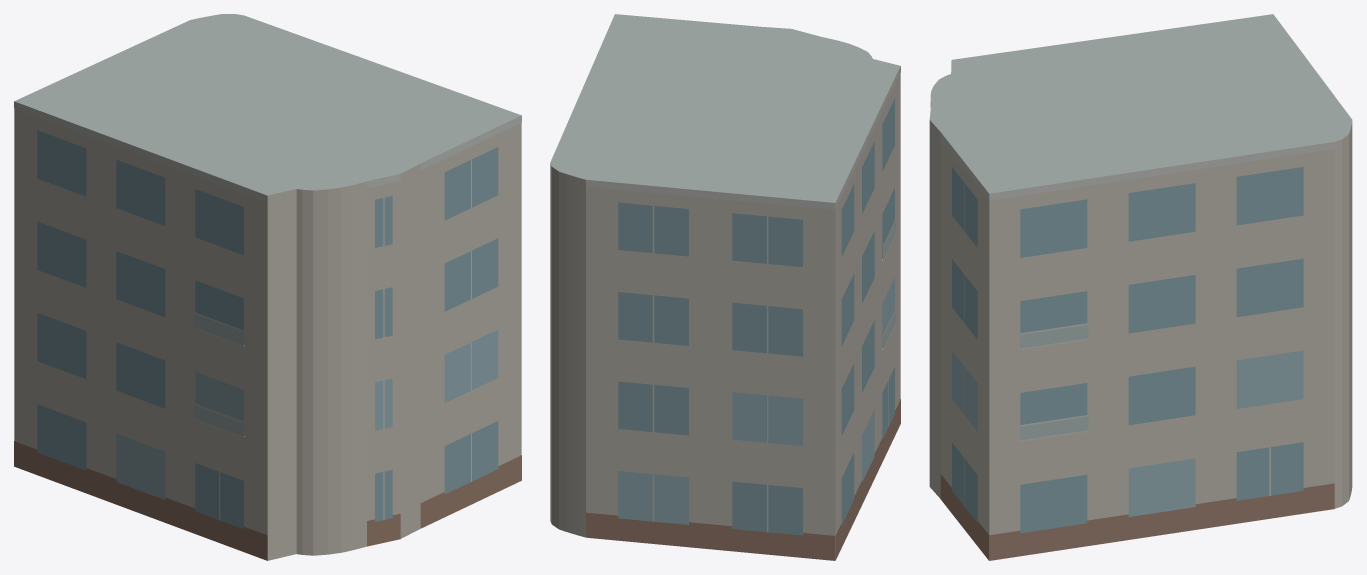
The model's file is survey-upis-32696223.glb.
3 renders of one model, left to right at view 1: azimuth 30°, elevation 25°; view 2: azimuth 150°, elevation 25°; view 3: azimuth 270°, elevation 25°, orthographic. The views are drawn at different scales.
Visible parts, largest first — view 1: survey-upis-32696223.tmp; view 2: survey-upis-32696223.tmp; view 3: survey-upis-32696223.tmp.
Part boxes in pixels (x1=…): survey-upis-32696223.tmp: x1=14, y1=14, x2=521, y2=560; survey-upis-32696223.tmp: x1=550, y1=14, x2=900, y2=560; survey-upis-32696223.tmp: x1=929, y1=14, x2=1352, y2=560.
Size of the model in its own units: 13.24 by 12.6 by 13.16.
